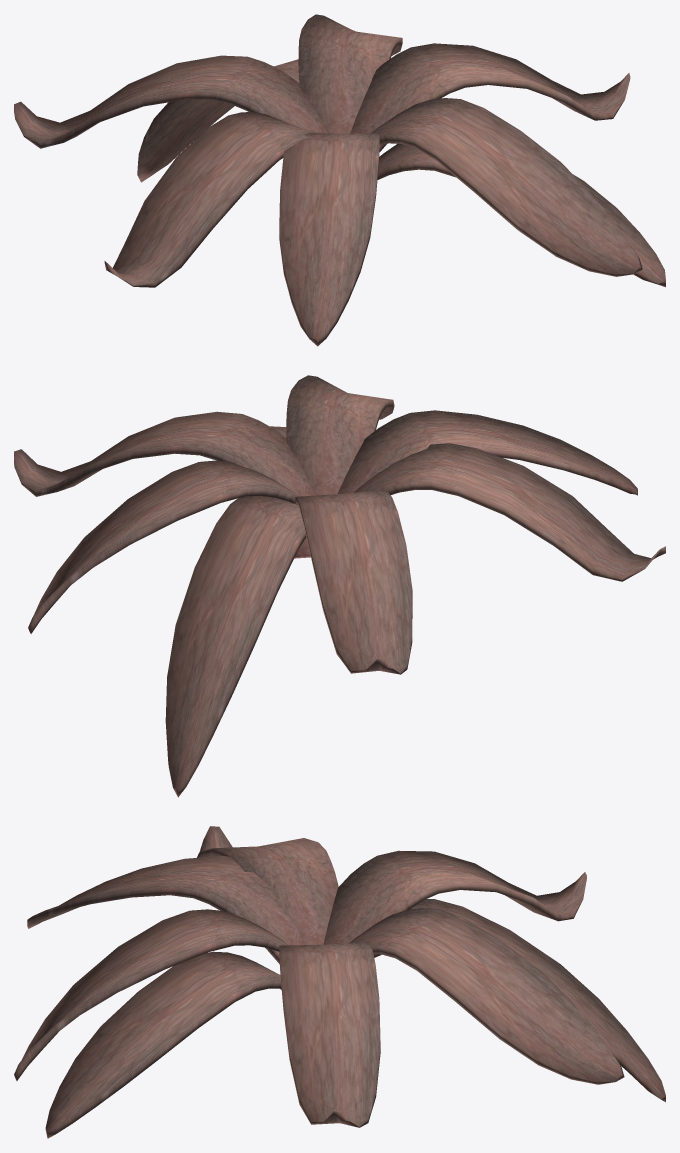
File: calyx8_sb3_b.dae
3 renders of one model, top to bottom at view 1: azimuth 30°, elevation 25°; view 2: azimuth 150°, elevation 25°; view 3: azimuth 270°, elevation 25°, orthographic.
Visible parts, largest first — view 1: calyx8, calyx6_001, calyx7_003, calyx7_002, calyx7, calyx8_001, calyx9, calyx6; view 2: calyx9, calyx7_002, calyx7_003, calyx7, calyx8_001, calyx6_001, calyx8; view 3: calyx8_001, calyx7, calyx6, calyx7_002, calyx8, calyx6_001, calyx7_003, calyx9.
Part boxes in pixels (x1=…): calyx8: x1=370, y1=98, x2=642, y2=276; calyx6_001: x1=279, y1=132, x2=379, y2=346; calyx7_003: x1=104, y1=112, x2=313, y2=287; calyx7_002: x1=14, y1=55, x2=327, y2=148; calyx7: x1=350, y1=43, x2=630, y2=152; calyx8_001: x1=298, y1=14, x2=402, y2=133; calyx9: x1=137, y1=59, x2=299, y2=182; calyx6: x1=377, y1=144, x2=665, y2=287; calyx9: x1=165, y1=496, x2=306, y2=797; calyx7_002: x1=295, y1=490, x2=412, y2=674; calyx7_003: x1=354, y1=443, x2=665, y2=581; calyx7: x1=14, y1=411, x2=315, y2=496; calyx8_001: x1=28, y1=460, x2=299, y2=633; calyx6_001: x1=337, y1=410, x2=637, y2=495; calyx8: x1=286, y1=375, x2=394, y2=495; calyx8_001: x1=349, y1=908, x2=624, y2=1084; calyx7: x1=279, y1=942, x2=380, y2=1127; calyx6: x1=45, y1=951, x2=281, y2=1138; calyx7_002: x1=323, y1=850, x2=586, y2=944; calyx8: x1=14, y1=909, x2=288, y2=1081; calyx6_001: x1=27, y1=856, x2=305, y2=963; calyx7_003: x1=197, y1=826, x2=338, y2=944; calyx9: x1=373, y1=899, x2=665, y2=1102.
Size of the model in its own units: 0.13 by 0.1249 by 0.0455.
Materials: 8 (8 with a texture image).
